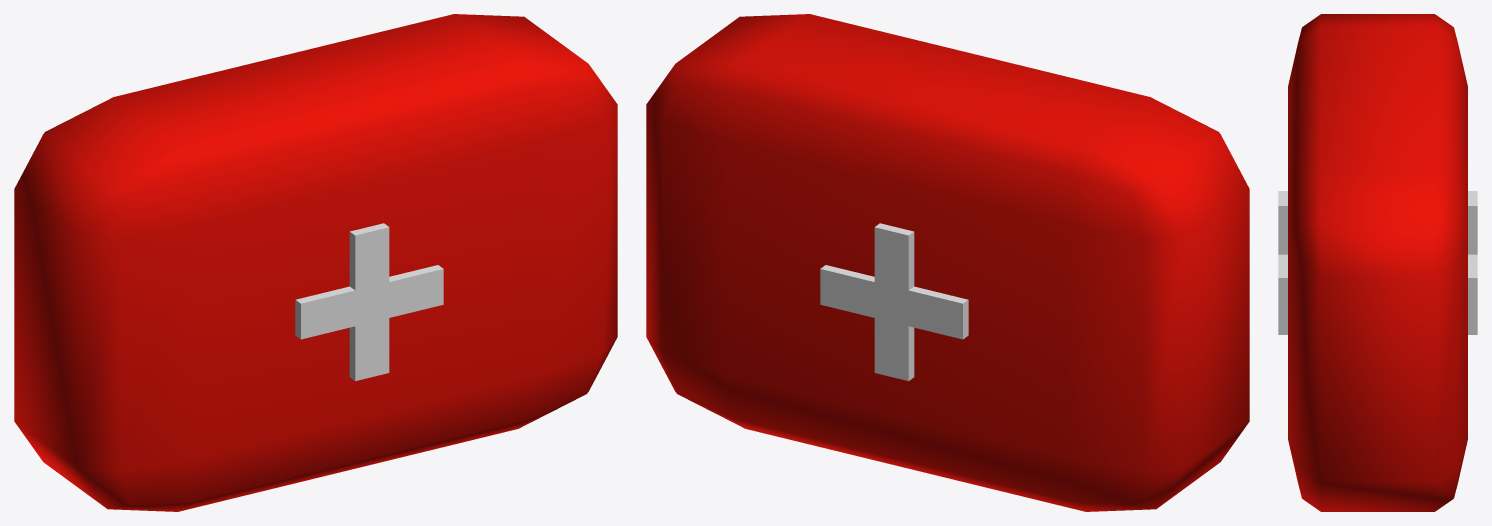
File: Medkit.fbx
The picture shows the model from 3 angles, left to right: view 1: azimuth 30°, elevation 25°; view 2: azimuth 150°, elevation 25°; view 3: azimuth 270°, elevation 25°; orthographic projection. The views are drawn at different scales.
Visible parts, largest first — view 1: Cube, Plane.003; view 2: Cube, Plane.003; view 3: Cube, Plane.003.
Boxes of the visible parts, x1,y1,x2,y2 form: Cube: (14, 14, 617, 511); Plane.003: (295, 223, 443, 381); Cube: (646, 14, 1249, 511); Plane.003: (820, 223, 968, 381); Cube: (1288, 14, 1467, 511); Plane.003: (1278, 191, 1477, 334).
Size of the model in its own units: 15.62 by 10.18 by 5.65.
